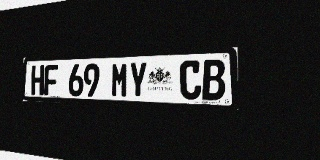6: (68, 64, 84, 96)
9: (84, 63, 100, 97)
B: (202, 59, 225, 100)
C: (180, 60, 201, 100)
F: (44, 65, 58, 96)
H: (31, 65, 44, 95)
M: (111, 62, 128, 98)
Y: (129, 62, 147, 98)
